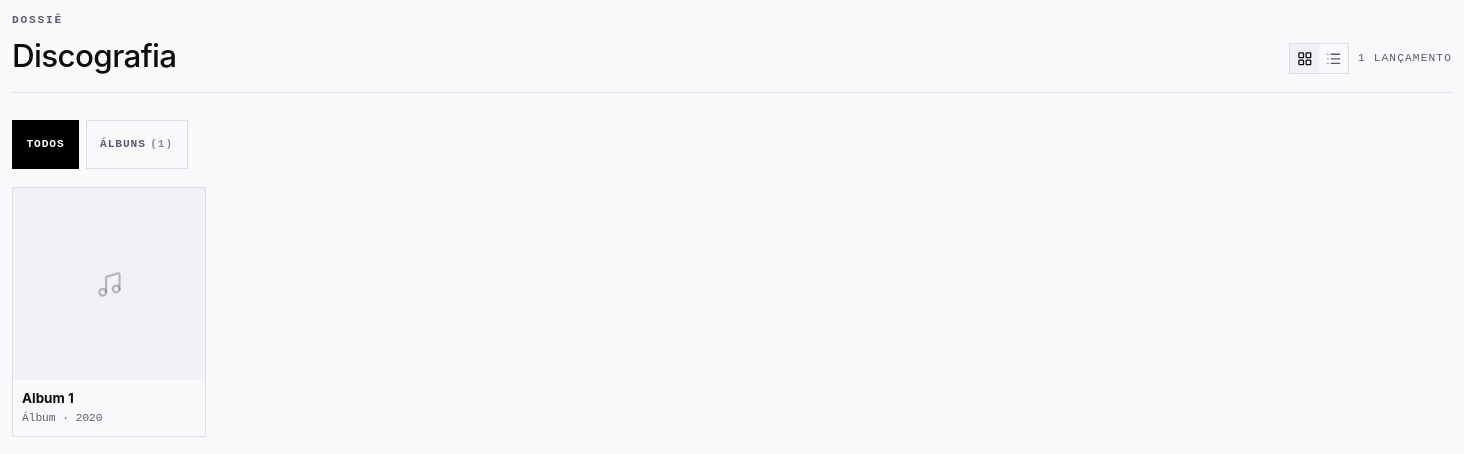
it: GroupDiscography › alterna entre visão grade e lista
Expected: the text "Faixa 1" is not shown
Click the button titled "Lista".
click(1333, 58)  # box left=1319, top=44, right=1348, bottom=73
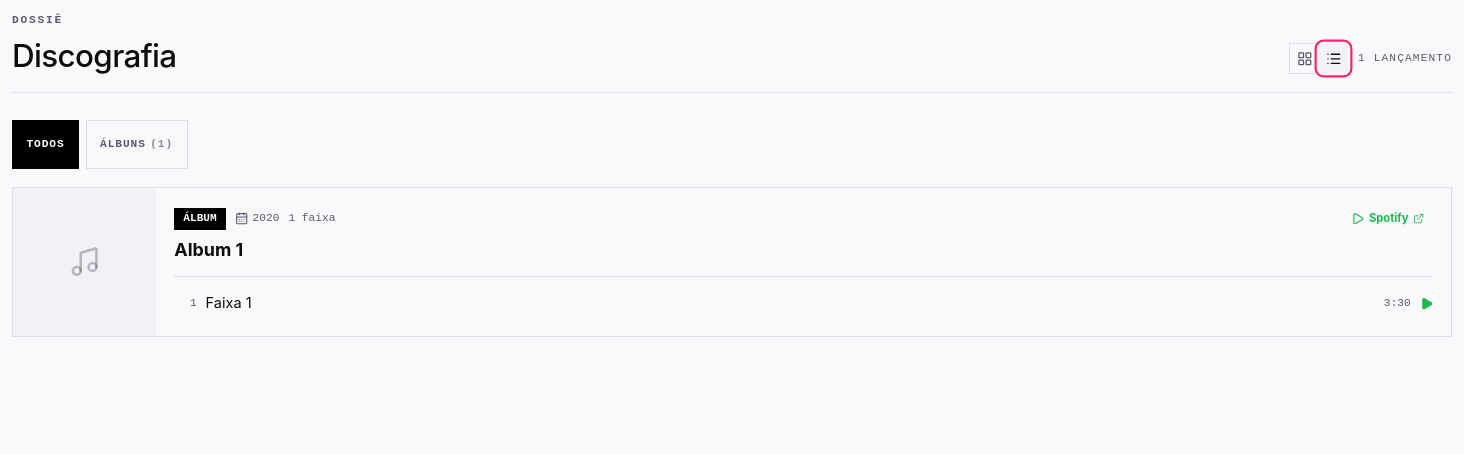
Expected: the text "Faixa 1" is shown, left=206, top=294, right=252, bottom=312
